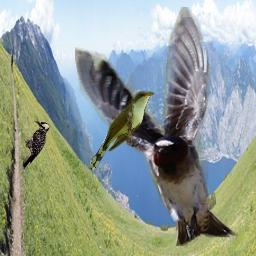Cuckoo: (90, 91, 154, 170)
Swallow: (75, 7, 238, 246)
Woodpecker: (21, 120, 53, 171)
